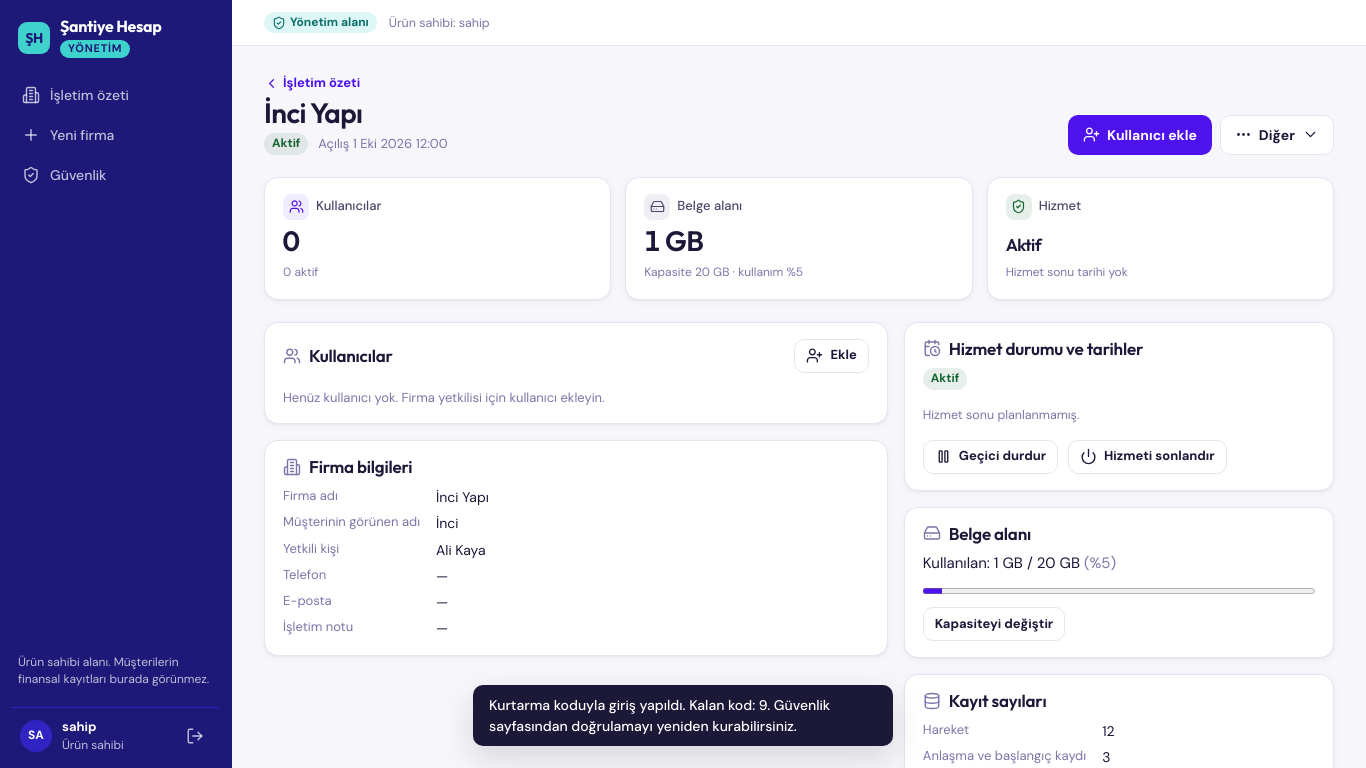
it: kullanıcı ekleme ve şifre sıfırlama › geçici şifre yalnız bir kez gösterilir; anahtarla gider; kapatınca yeniden görünmez
Click the button "Kullanıcı ekle" at (1140, 135), box [1068, 115, 1212, 155]
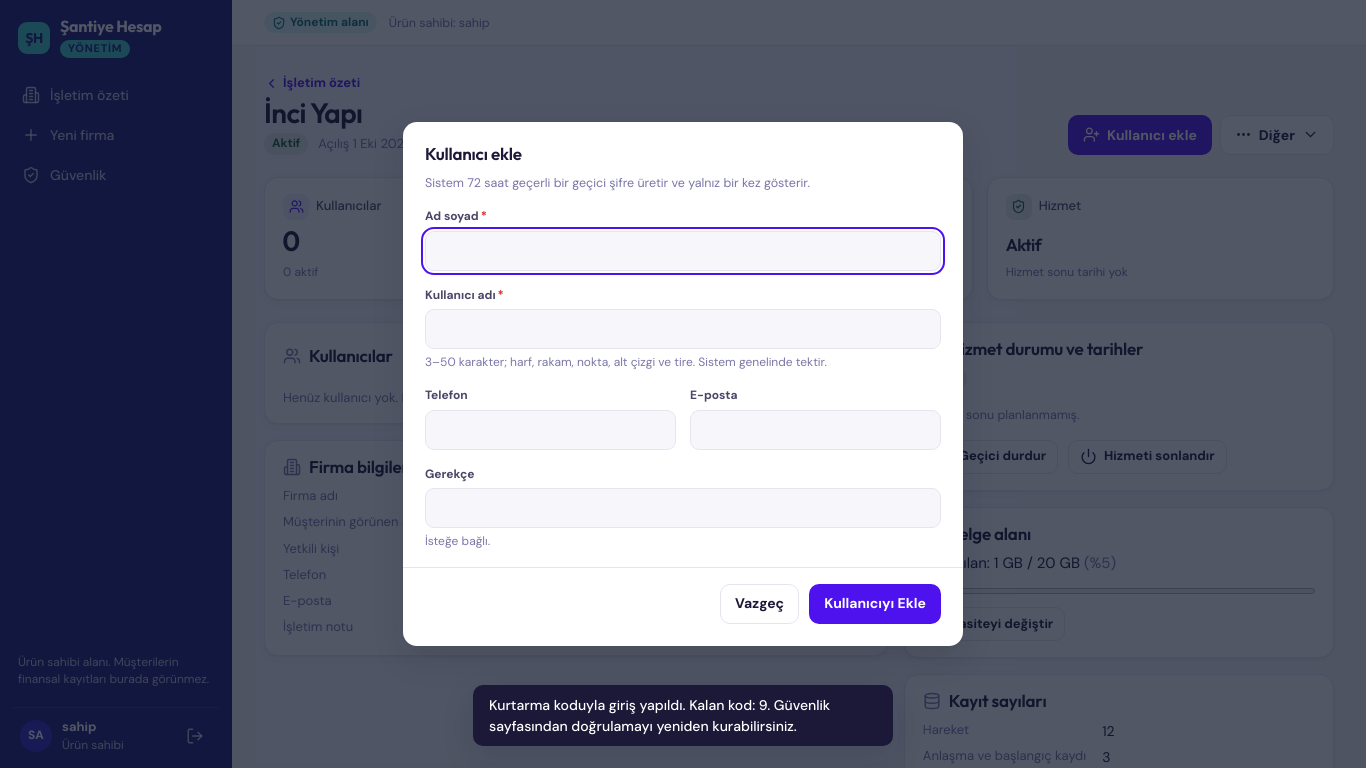
Type "Ayşe Demir" into the field labelled "Ad soyad*" at (683, 250), box [425, 230, 941, 270]
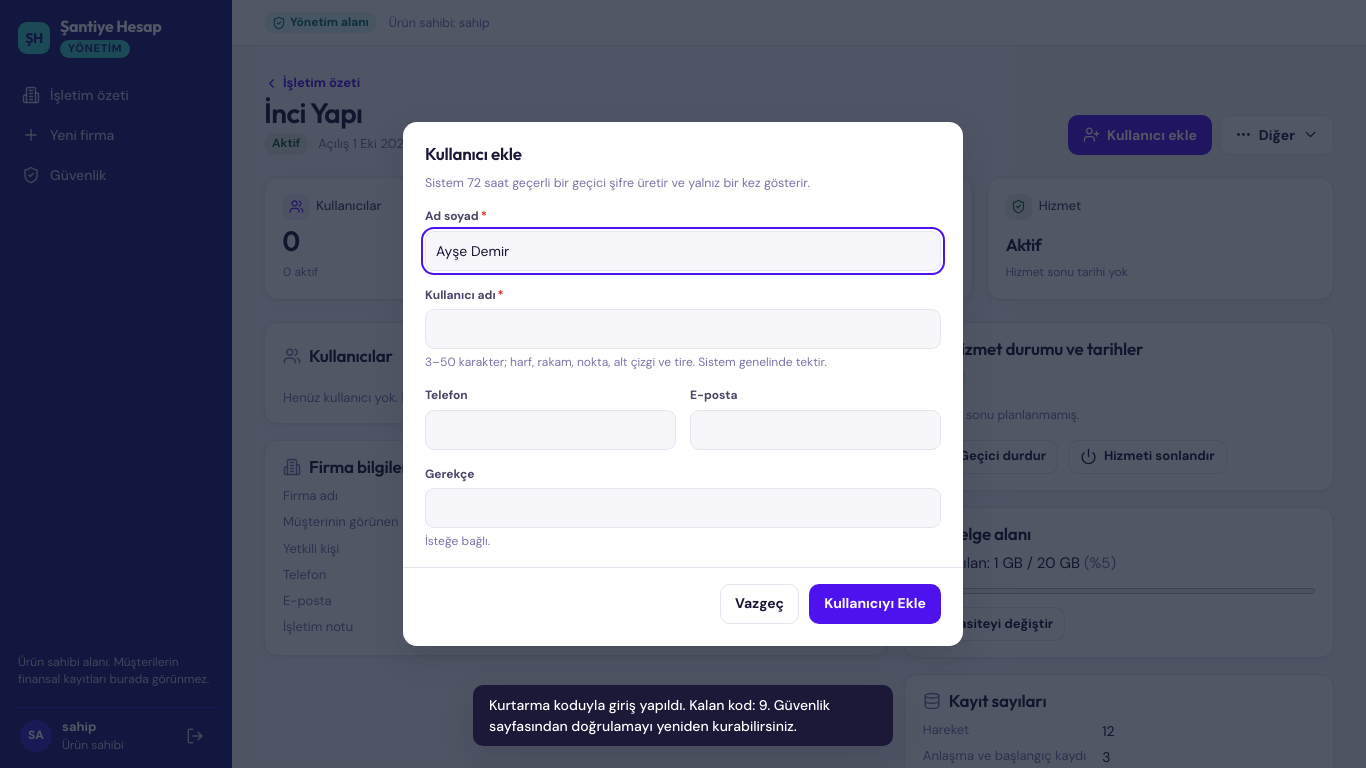
Type "ayse.demir" into the field labelled "Kullanıcı adı*" at (683, 329), box [425, 309, 941, 349]
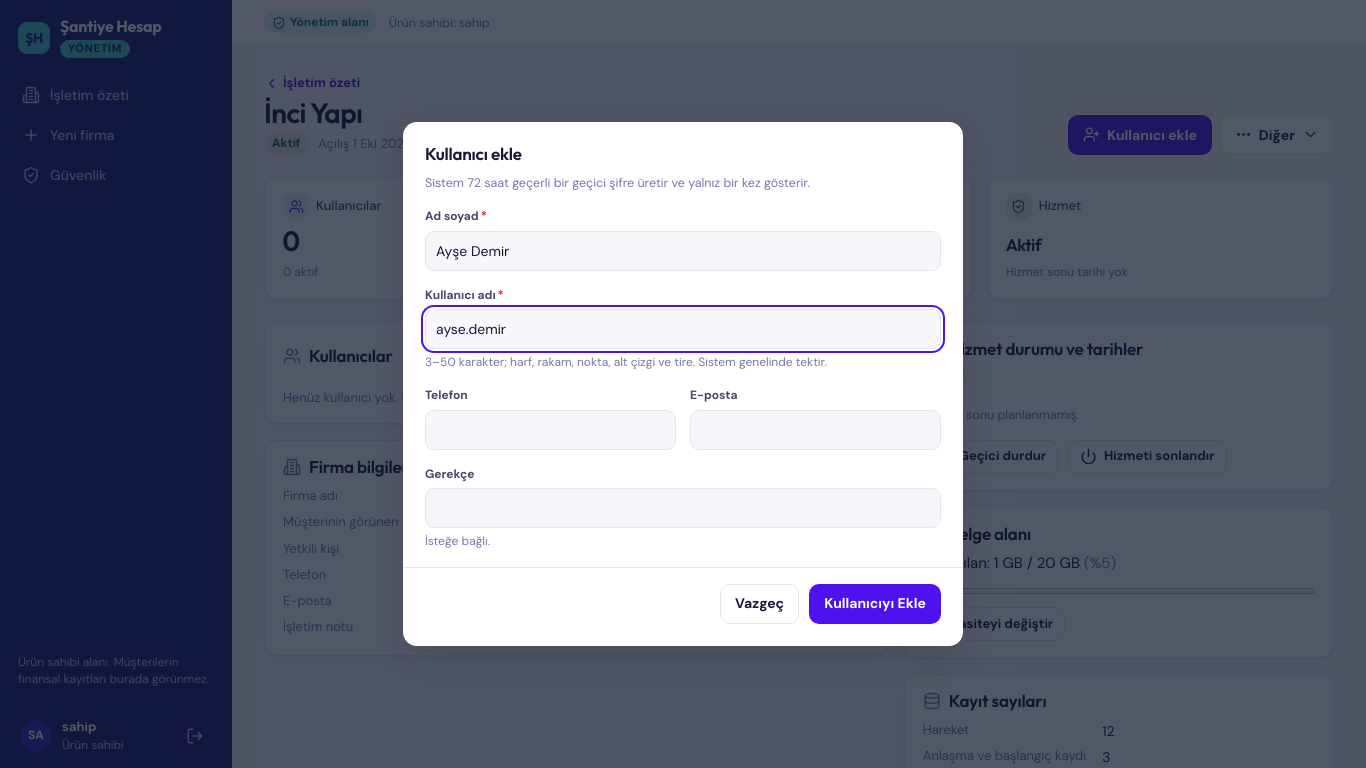
Click the button "Kullanıcıyı Ekle" at (875, 604), box [809, 584, 941, 624]
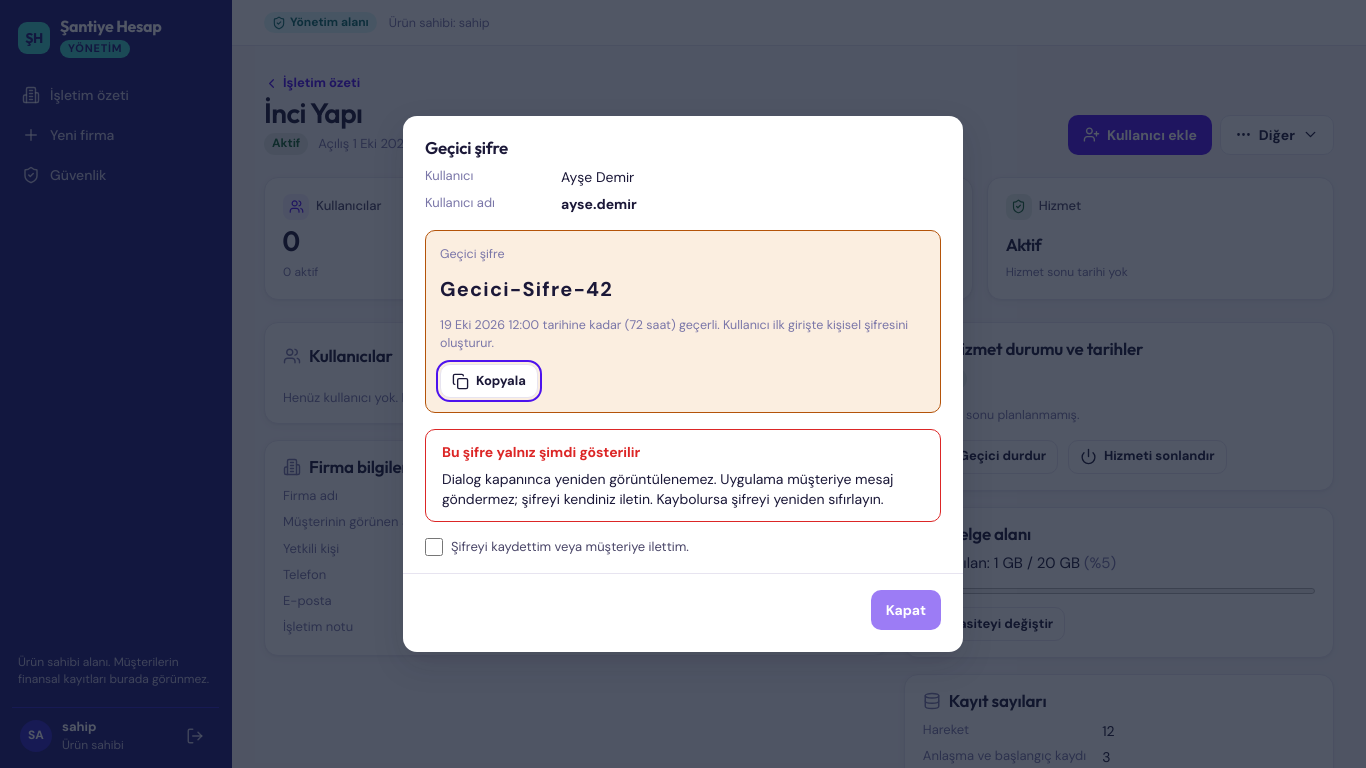
Result: the text "Gecici-Sifre-42" is shown at [440, 276, 613, 302]
Result: the text "Bu şifre yalnız şimdi gösterilir" is shown at [442, 443, 640, 461]
Result: the button "Kapat" is disabled at [871, 590, 941, 630]
Click the checkbox labelled "Şifreyi kaydettim veya müşteriye ilettim." at (434, 547), box [425, 538, 443, 556]
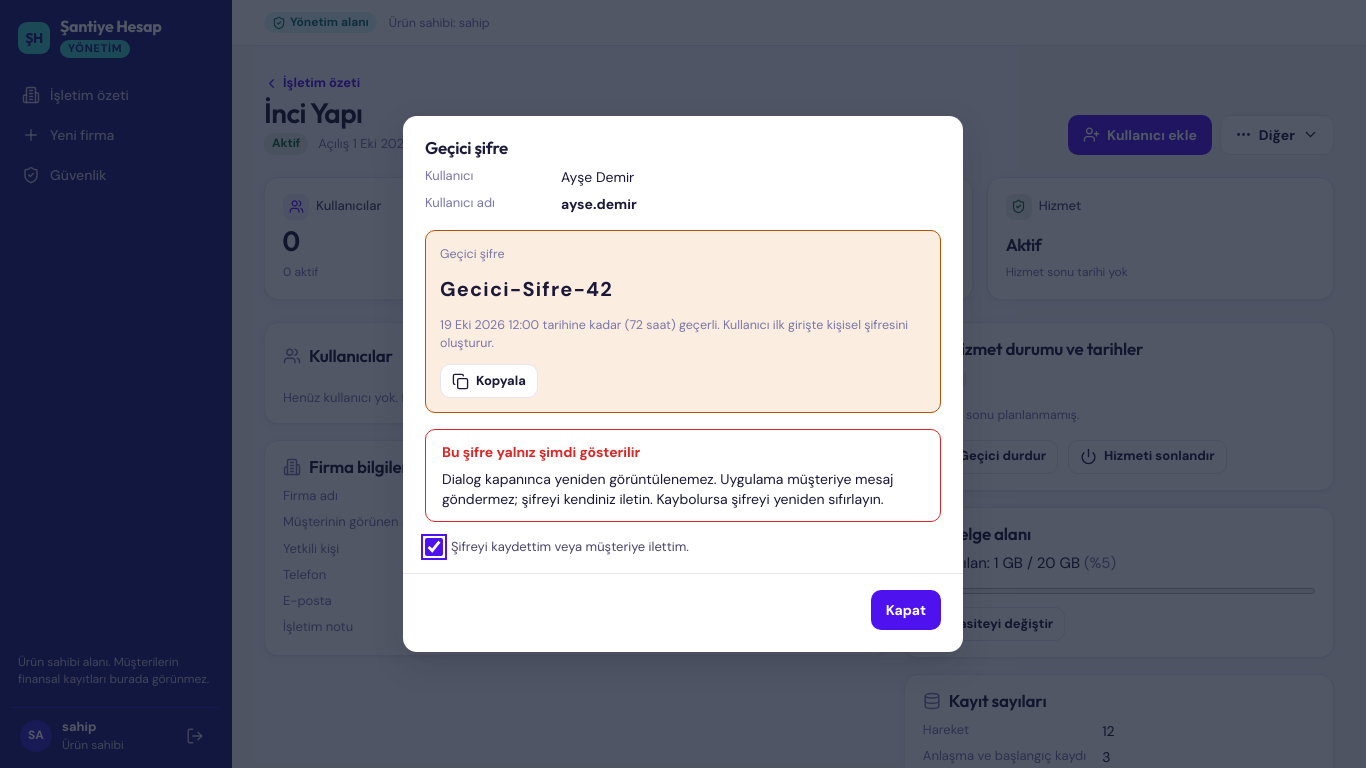
Click the button "Kapat" at (906, 610), box [871, 590, 941, 630]
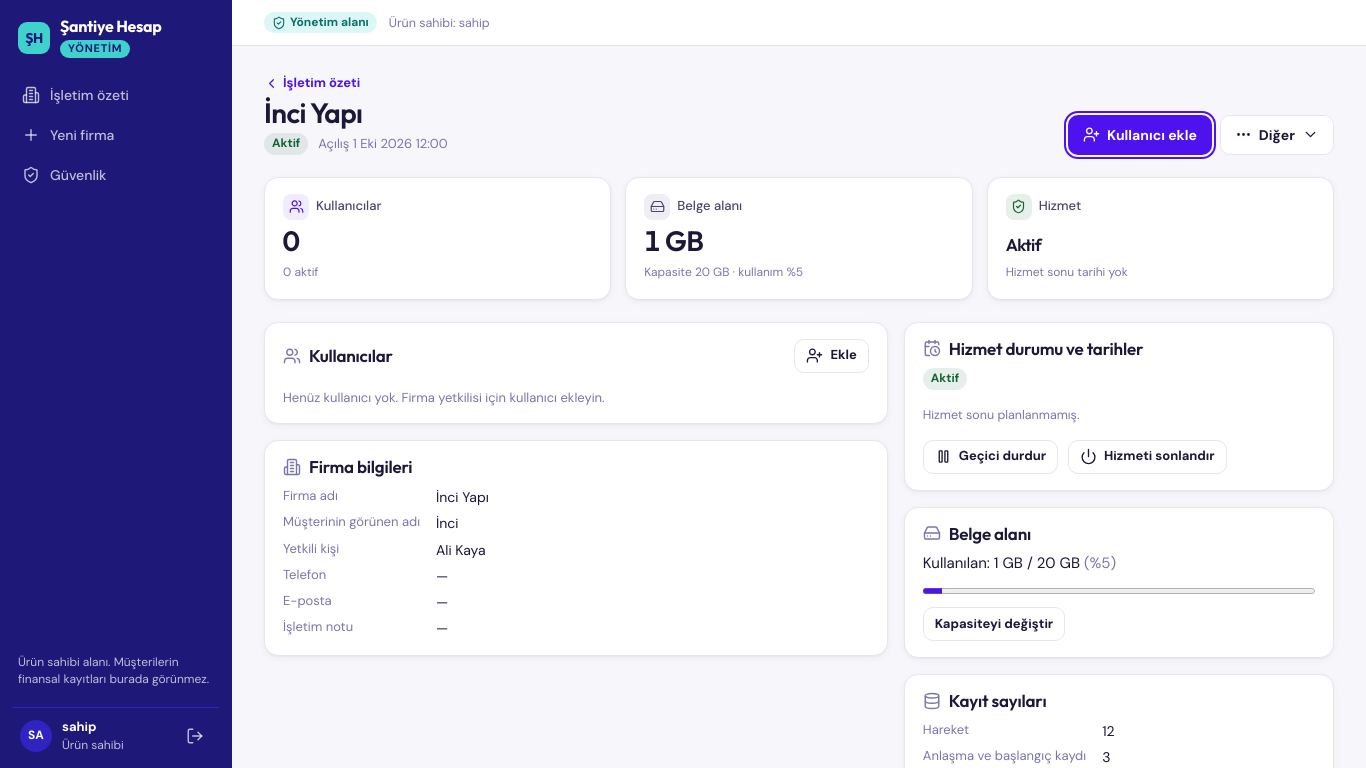
Result: the text "Gecici-Sifre-42" is gone
